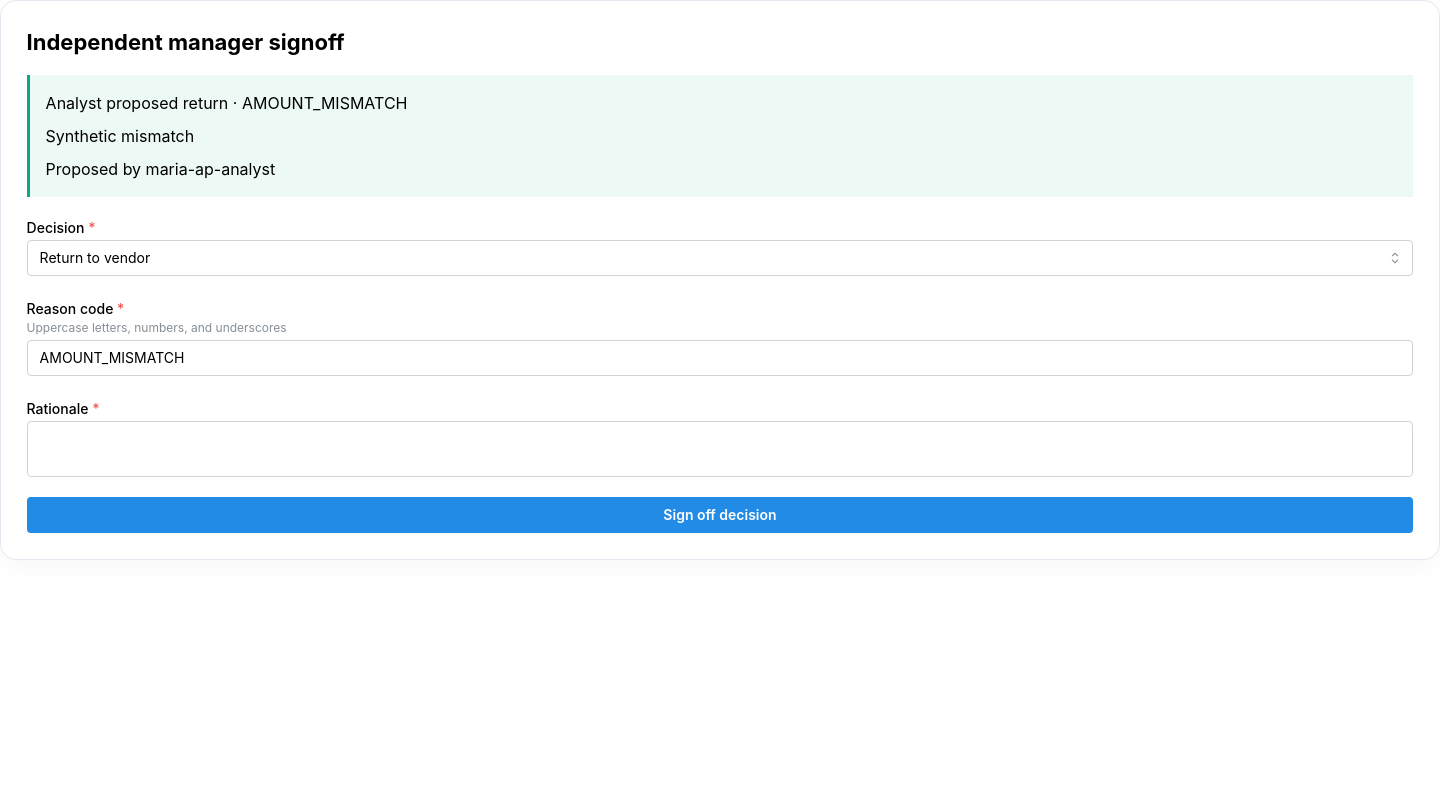
Test: manager signoff binds to the analyst proposal and sends an idempotency key
This screenshot has width=1440, height=810.
Expected: the text "Synthetic mismatch" is shown, [46,126,194,146]
In the text box labelled "Rationale": coordinates (720, 449) [27,421,1413,477], type "Independent synthetic review confirms return"
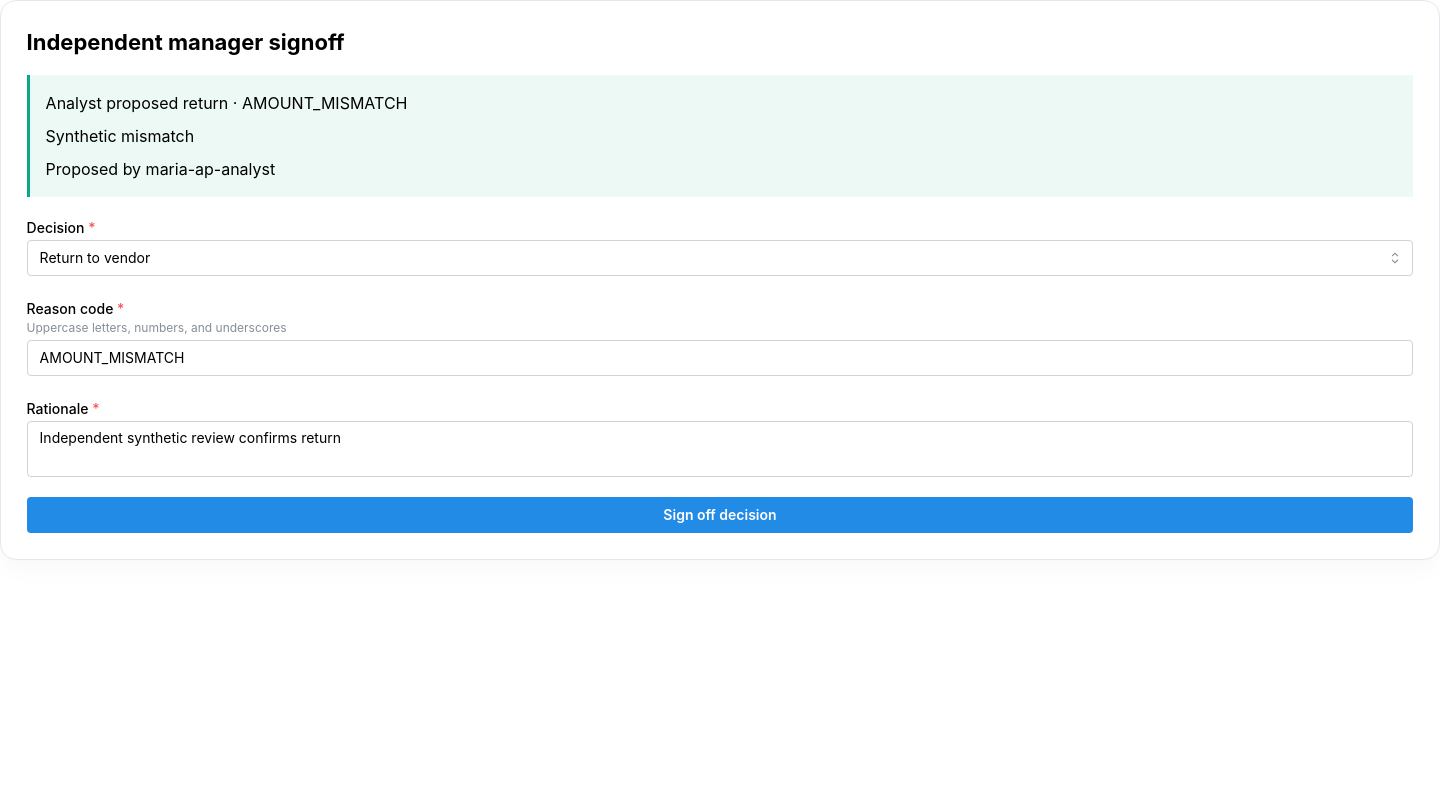
Click the button "Sign off decision": coordinates (720, 515) [27,497,1413,533]
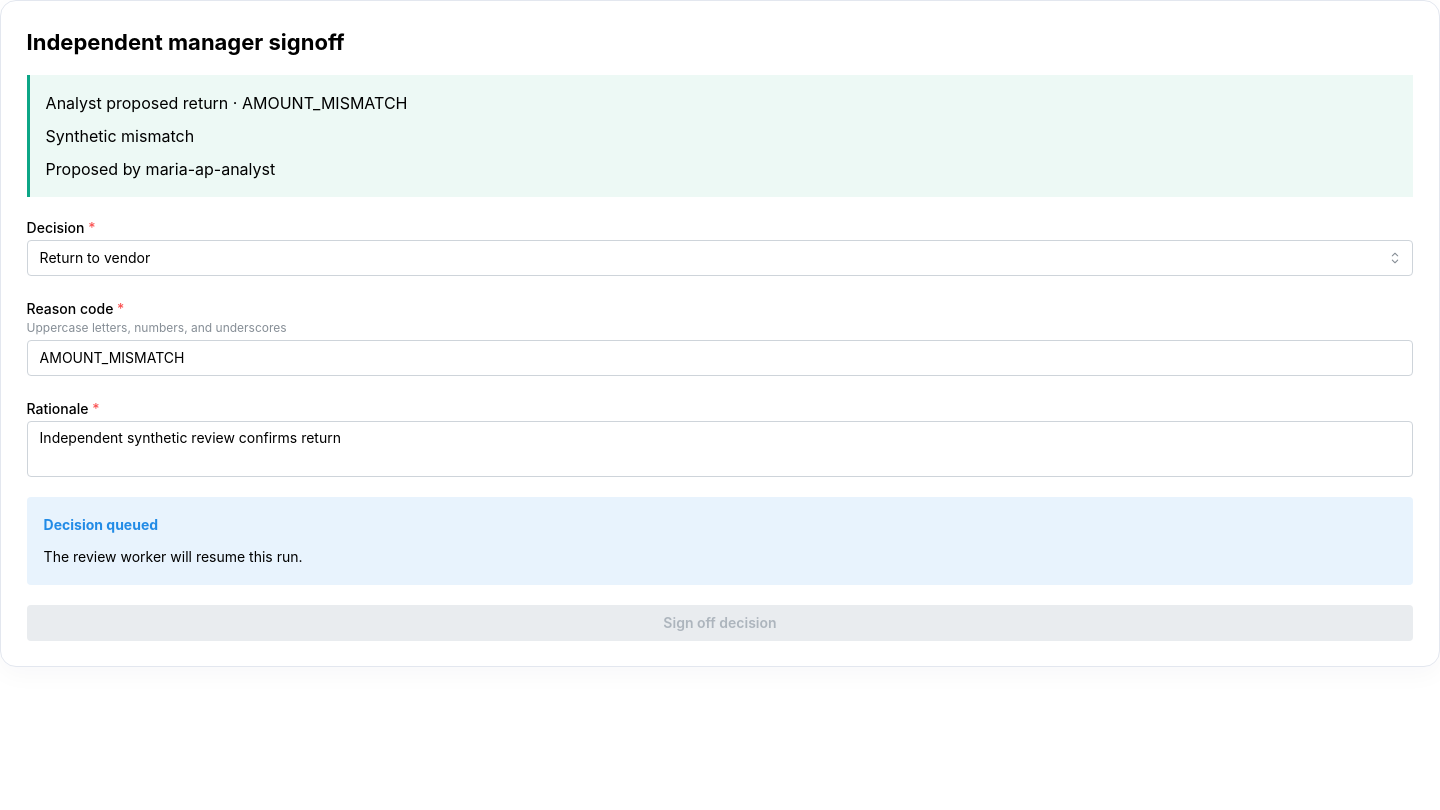
Now the text "The review worker will resume this run." is shown, box [44,548,303,565]
